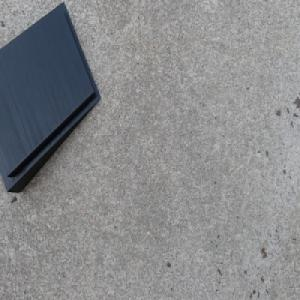PlasticPart: (0, 1, 101, 197)
